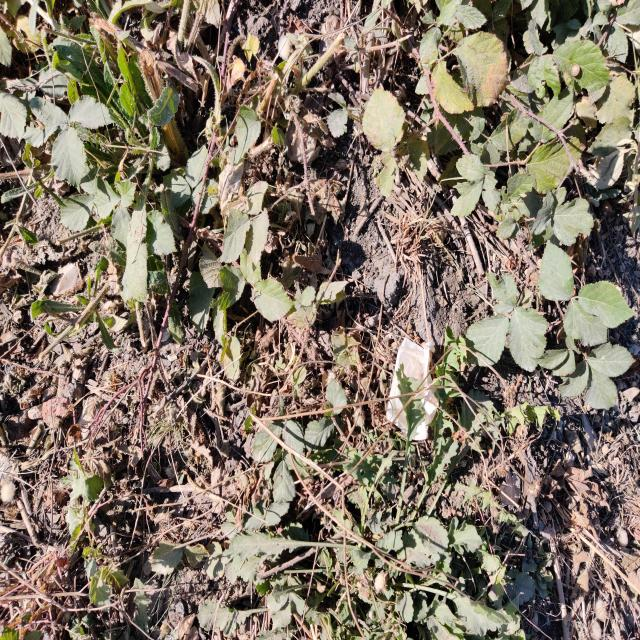litter: (384, 337, 437, 440)
